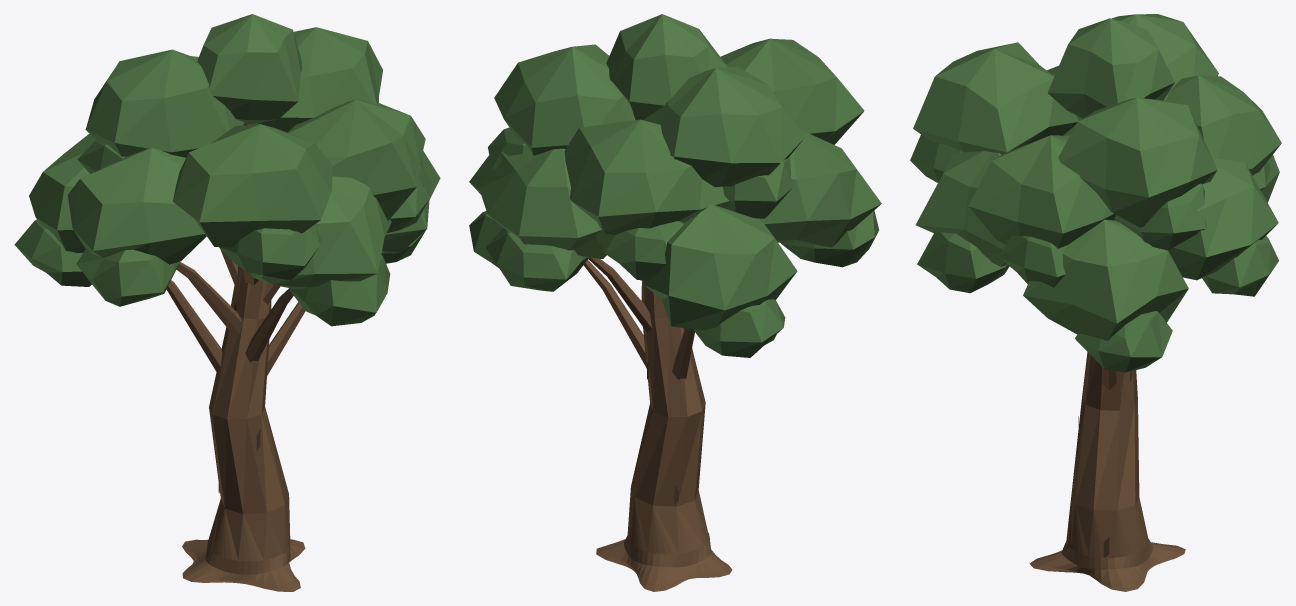
Rendered from oak_summer.glb.
The picture shows the model from 3 angles, left to right: view 1: azimuth 30°, elevation 25°; view 2: azimuth 150°, elevation 25°; view 3: azimuth 270°, elevation 25°; orthographic projection.
Parts seen in each view (by area): view 1: leaves, branches; view 2: leaves, branches; view 3: leaves, branches.
Boxes of the visible parts, left/top/right/bottom form: leaves: left=14, top=14, right=440, bottom=326; branches: left=166, top=123, right=305, bottom=591; leaves: left=469, top=14, right=881, bottom=357; branches: left=583, top=258, right=732, bottom=591; leaves: left=910, top=14, right=1281, bottom=372; branches: left=1029, top=352, right=1185, bottom=591.
Bounding box in the file's own units: 3.5 × 4.8 × 2.97.
